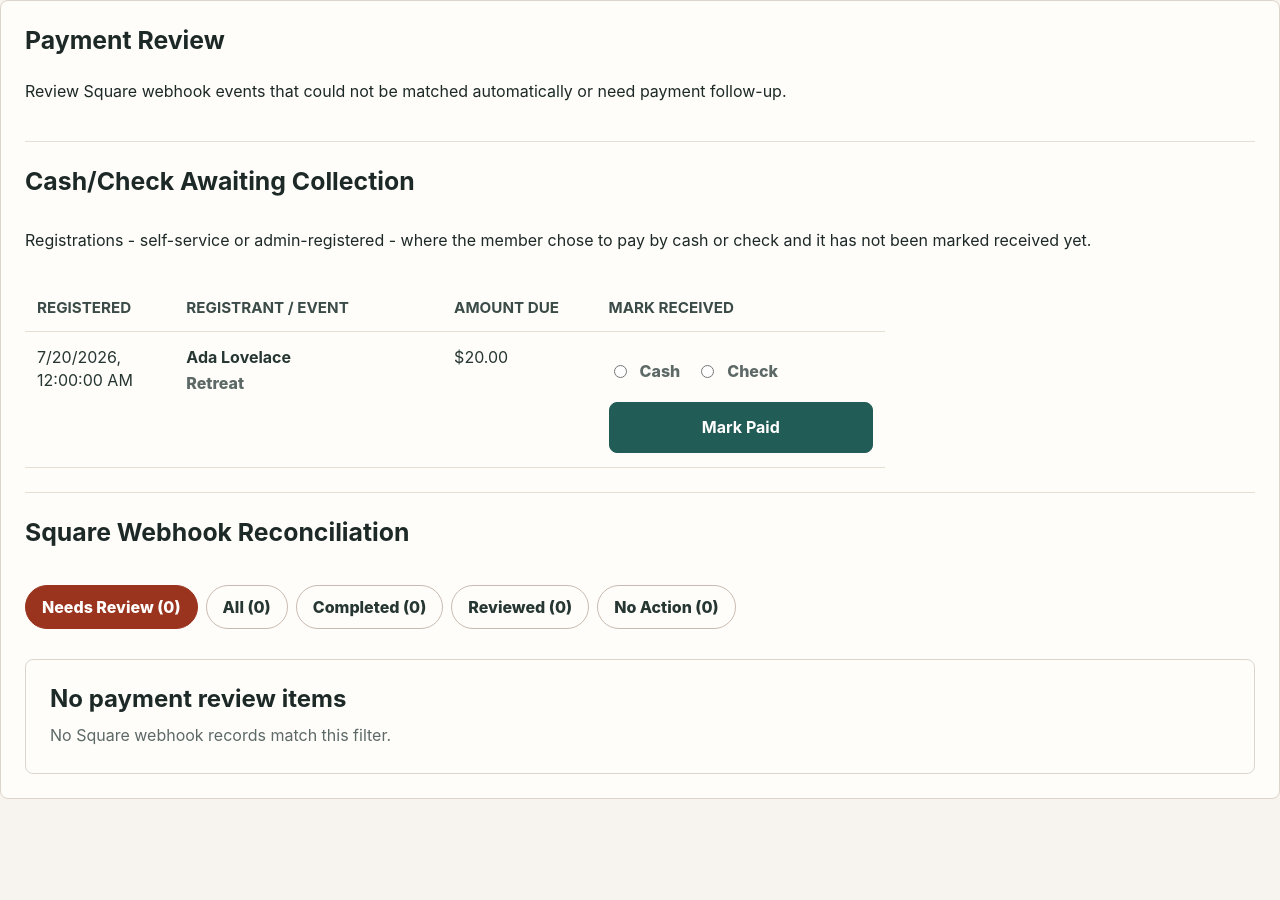
cash/check awaiting collection › requires a Cash or Check choice before Mark Paid can be used
The image size is (1280, 900).
Step 1. Click the button "Mark Paid" → (741, 428), box [609,402,873,453]
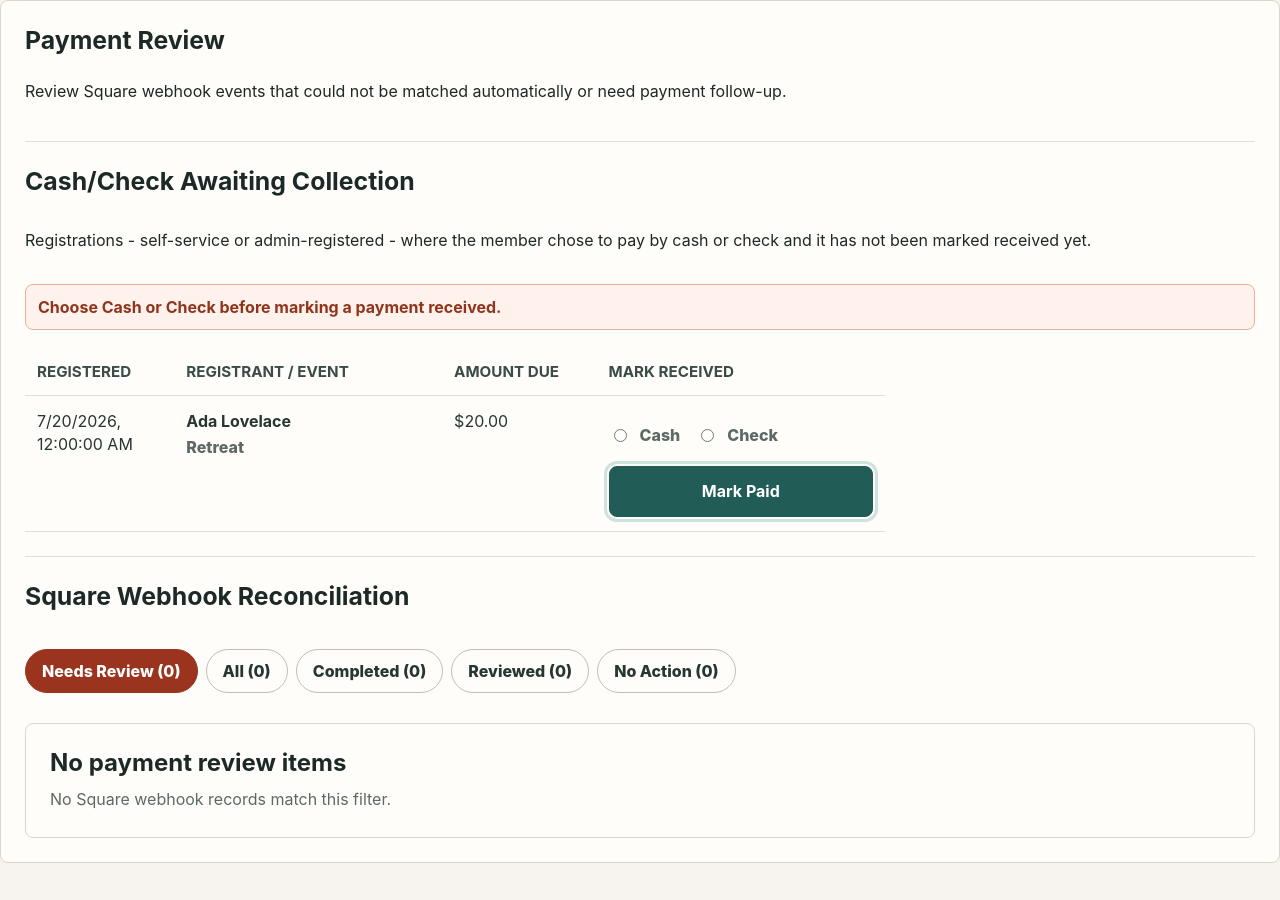
Result: the text "Choose Cash or Check before marking a payment received." is shown at [25,284,1255,330]
